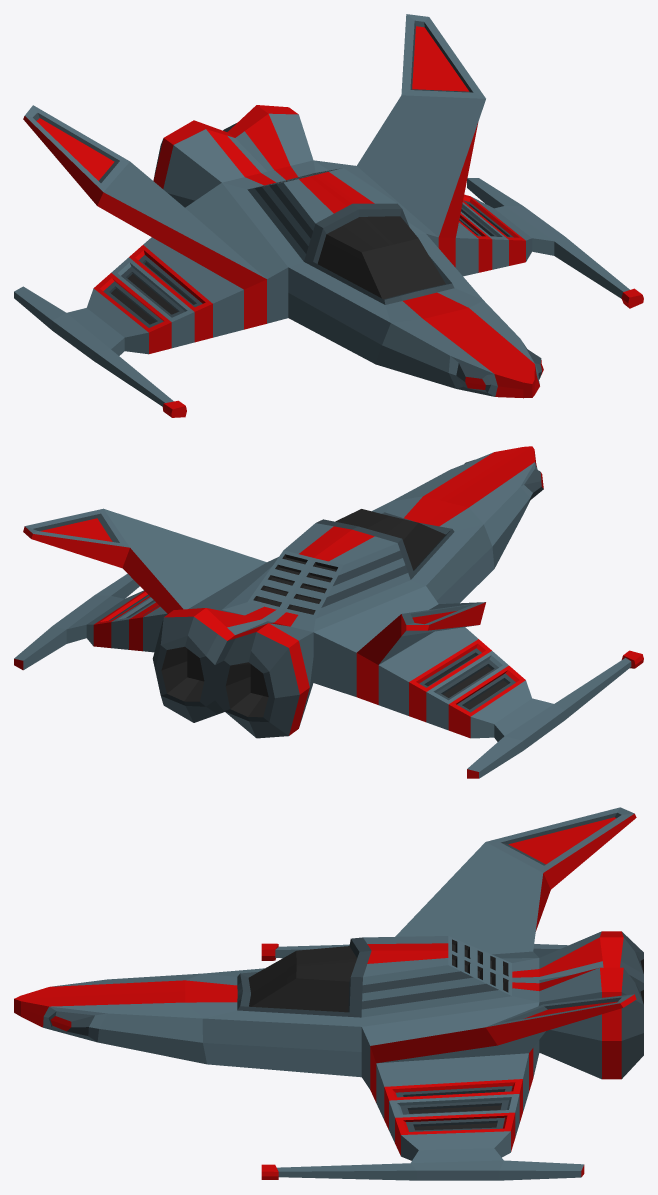
File: Spaceship.fbx
3 views of the same model, one above another, from view 1: azimuth 30°, elevation 25°; view 2: azimuth 150°, elevation 25°; view 3: azimuth 270°, elevation 25° (orthographic).
Visible parts, largest first — view 1: Spaceship; view 2: Spaceship; view 3: Spaceship.
Boxes of the visible parts, left/top/right/bottom form: Spaceship: left=14, top=14, right=643, bottom=417; Spaceship: left=14, top=446, right=643, bottom=778; Spaceship: left=14, top=807, right=643, bottom=1180.
Size of the model in its own units: 10.32 by 3.5 by 12.
Materials: 1 (1 with a texture image).
